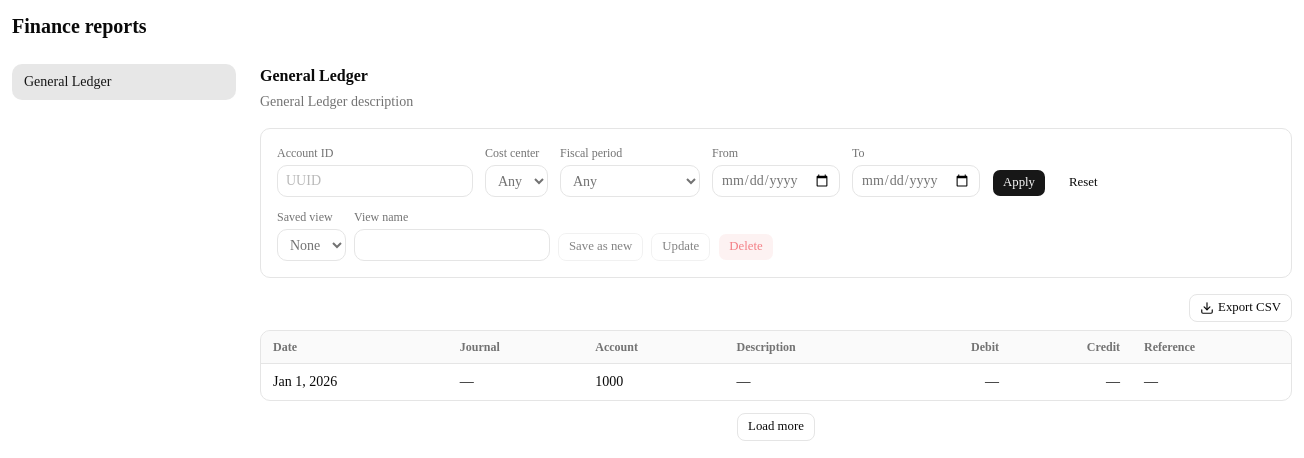
Finance page › pages the General Ledger with a cursor "Load more", not numbered pages
The width and height of the screenshot is (1304, 458).
Check: the text "1000" is shown, box [583,364,724,400]
Click the button "Load more".
click(776, 427)  # box [737,413,815,441]
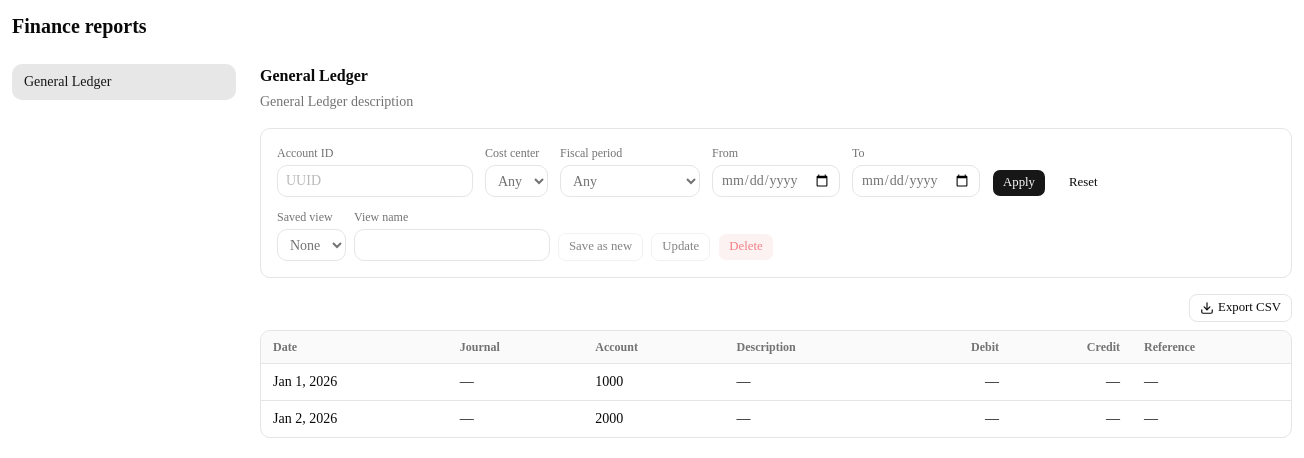
Check: the text "1000" is shown, box [583,364,724,400]
Check: the text "2000" is shown, box [583,400,724,437]
Check: the button "Load more" is gone
